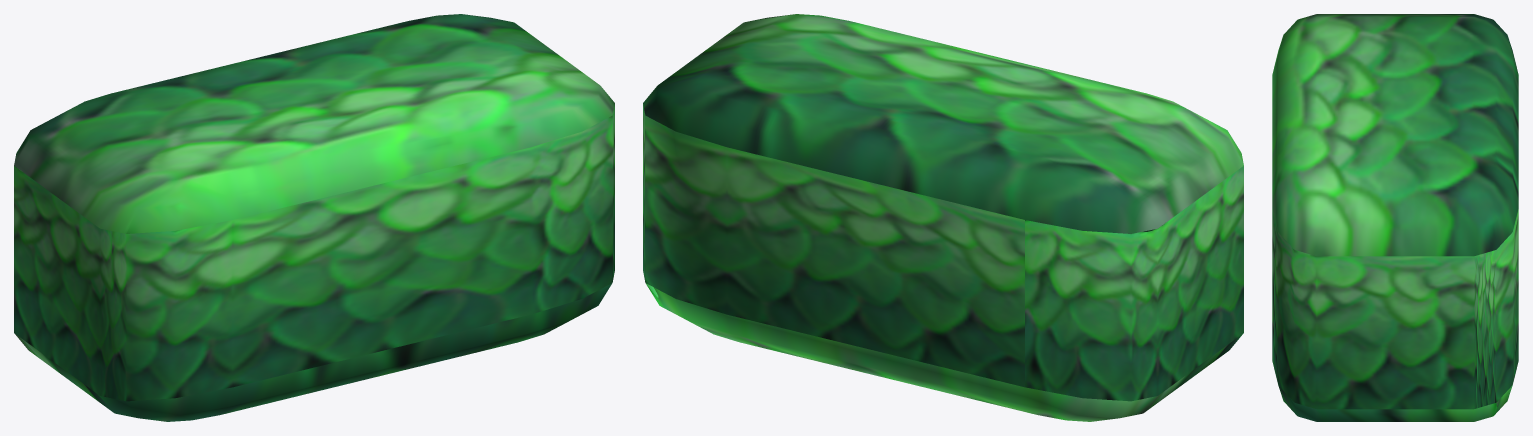
File: arbusto.obj
3 views of the same model, side by side, from view 1: azimuth 30°, elevation 25°; view 2: azimuth 150°, elevation 25°; view 3: azimuth 270°, elevation 25° (orthographic). The views are drawn at different scales.
Parts seen in each view (by area): view 1: ChamferBox002; view 2: ChamferBox002; view 3: ChamferBox002.
Part boxes in pixels (box(x1,y1,x2,y2)): ChamferBox002: box(14, 14, 614, 421); ChamferBox002: box(643, 14, 1243, 421); ChamferBox002: box(1272, 14, 1518, 421).
Bounding box in the file's own units: 44.58 × 20.83 × 20.23.
